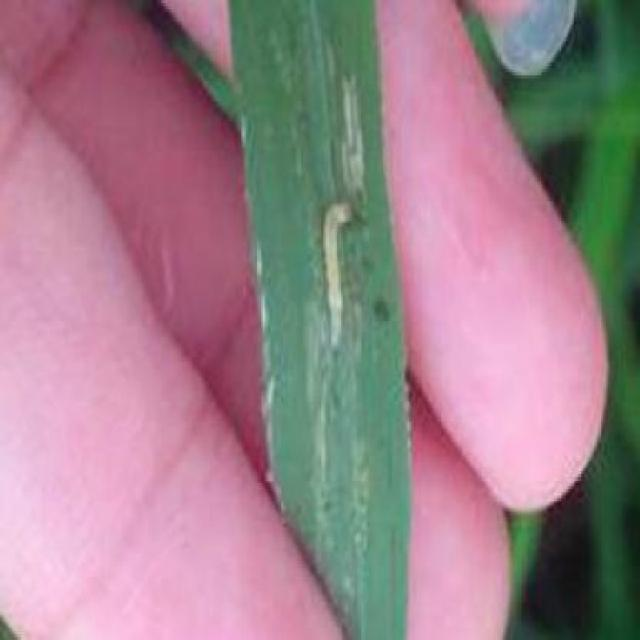leaf-folder: (313, 199, 369, 363)
